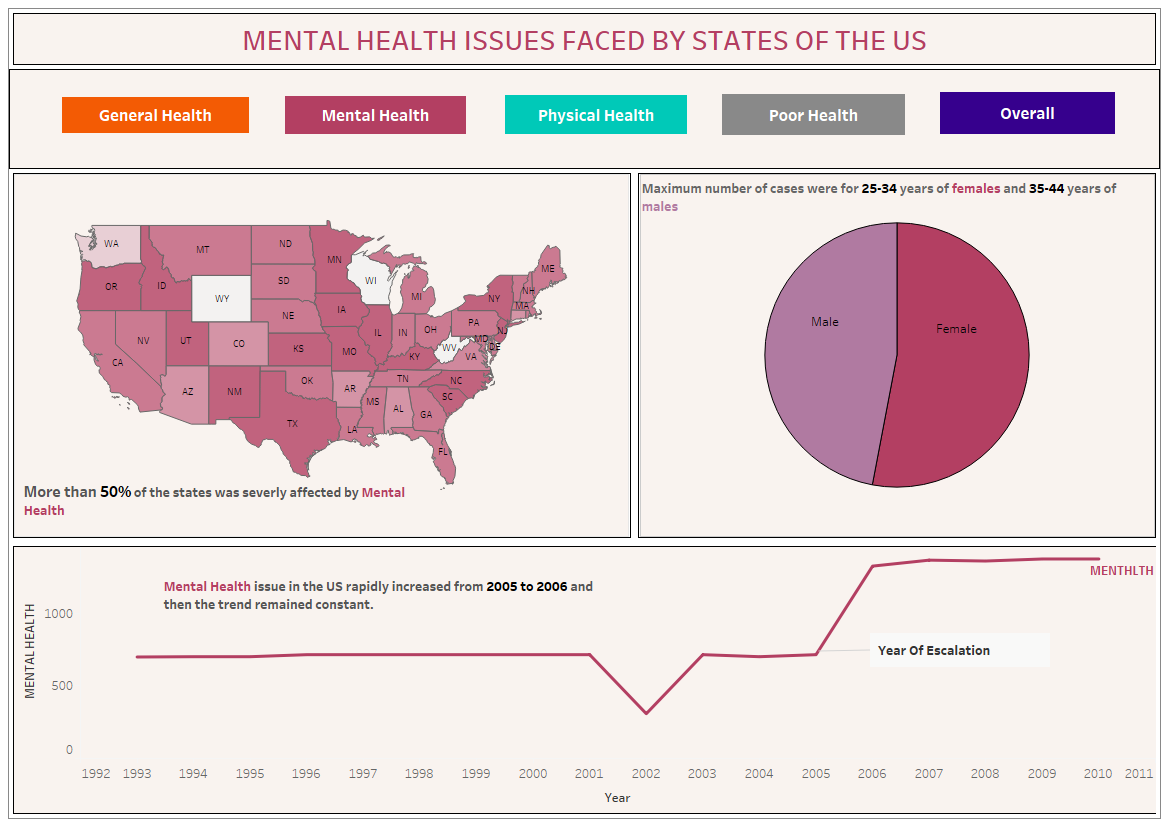

The dashboard page shown, as its layout file describes it:
{"tool":"tableau","page":{"name":"Mental Dash story","canvas":[1169,827],"ordinal":8},"visuals":[{"type":"text","box":[9,9,1151,60]},{"type":"dashboard-object","box":[940,92,175,42]},{"type":"dashboard-object","box":[722.4,94.1,182.4,41.3]},{"type":"dashboard-object","box":[505,95.1,182.4,39.3]},{"type":"dashboard-object","box":[285.2,96.1,181.2,38.2]},{"type":"dashboard-object","box":[62,97.2,187,36.2]},{"type":"worksheet","title":"Mental HLTH Map","mark":"Automatic","box":[9,169,625.5,373]},{"type":"worksheet","title":"PieChartMentalHlth","mark":"Pie","cols":["Calculation_1440588931308781577","Calculation_1440588931309305867"],"box":[634.5,169,525.5,373]},{"type":"text","box":[639,174,518,46]},{"type":"text","box":[21,476,389,49]},{"type":"worksheet","title":"MENTHLTH","mark":"Automatic","rows":["Calculation_2714263200890437632"],"cols":["Year"],"box":[9,542,1151,276]},{"type":"text","box":[161,570,461,50]}]}

Visuals, with their boxes in screenshot pixels (x1, y1, x2, y2), scaled from the page's 1169x827 canvas onto the 1169x827 screenshot:
text: [9,9,1160,69]
dashboard-object: [940,92,1115,134]
dashboard-object: [722,94,905,135]
dashboard-object: [505,95,687,134]
dashboard-object: [285,96,466,134]
dashboard-object: [62,97,249,133]
"Mental HLTH Map" worksheet: [9,169,634,542]
"PieChartMentalHlth" worksheet (Pie marks): [634,169,1160,542]
text: [639,174,1157,220]
text: [21,476,410,525]
"MENTHLTH" worksheet: [9,542,1160,818]
text: [161,570,622,620]
